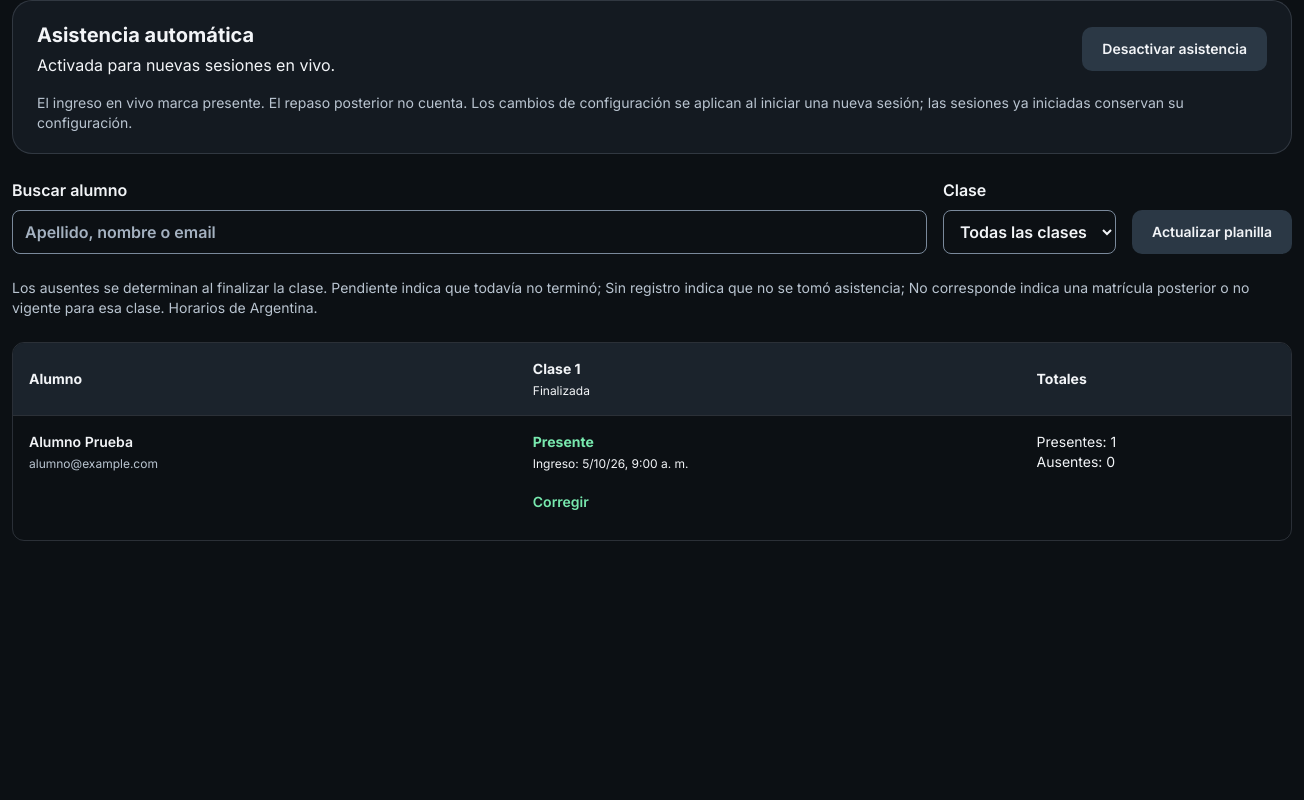
Test: muestra errores sin anunciar guardado y filtra alumnos
This screenshot has width=1304, height=800.
Click the button "Desactivar asistencia".
click(1175, 49)  # box top-left (1082, 27), bottom-right (1267, 71)
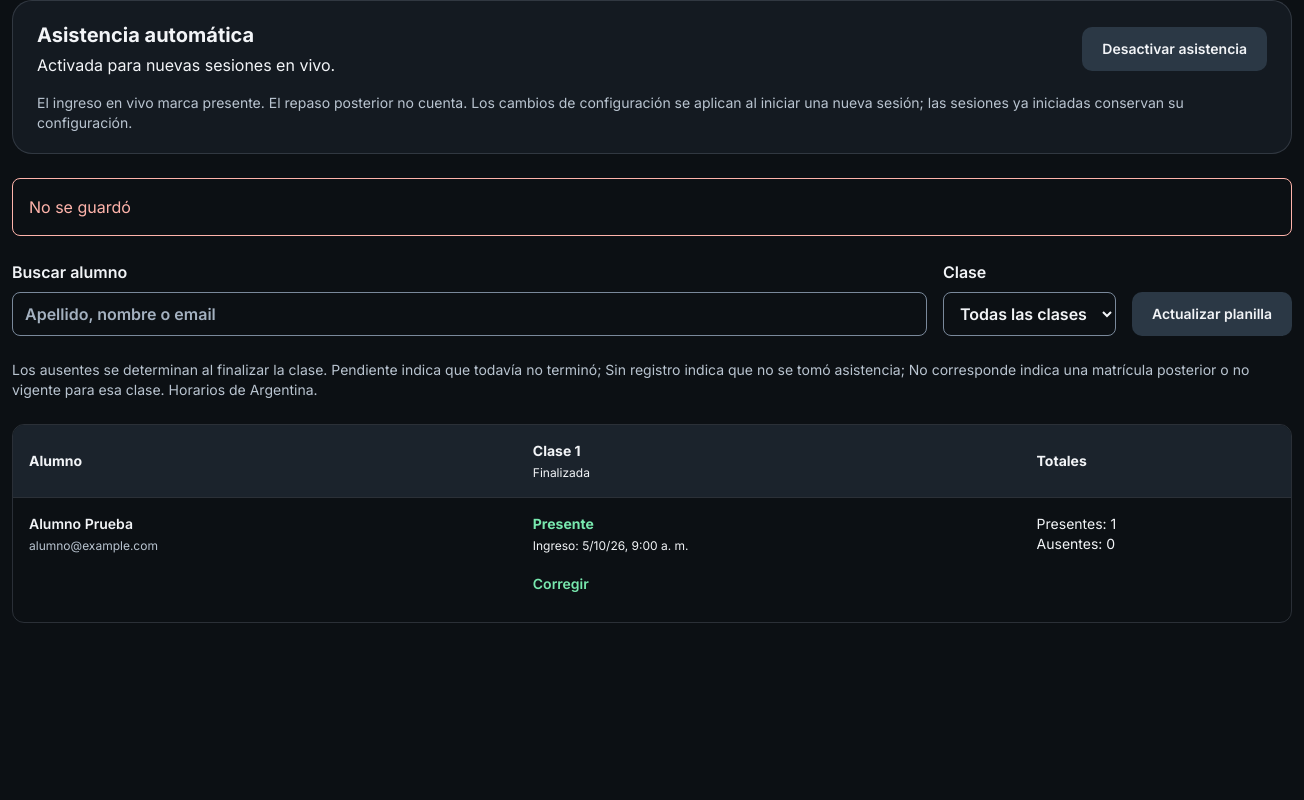
Now the message reads "No se guardó", box top-left (29, 197), bottom-right (131, 217)
Type "inexistente" into the field labelled "Buscar alumno".
click(469, 314); type("inexistente")  # box top-left (12, 292), bottom-right (927, 336)
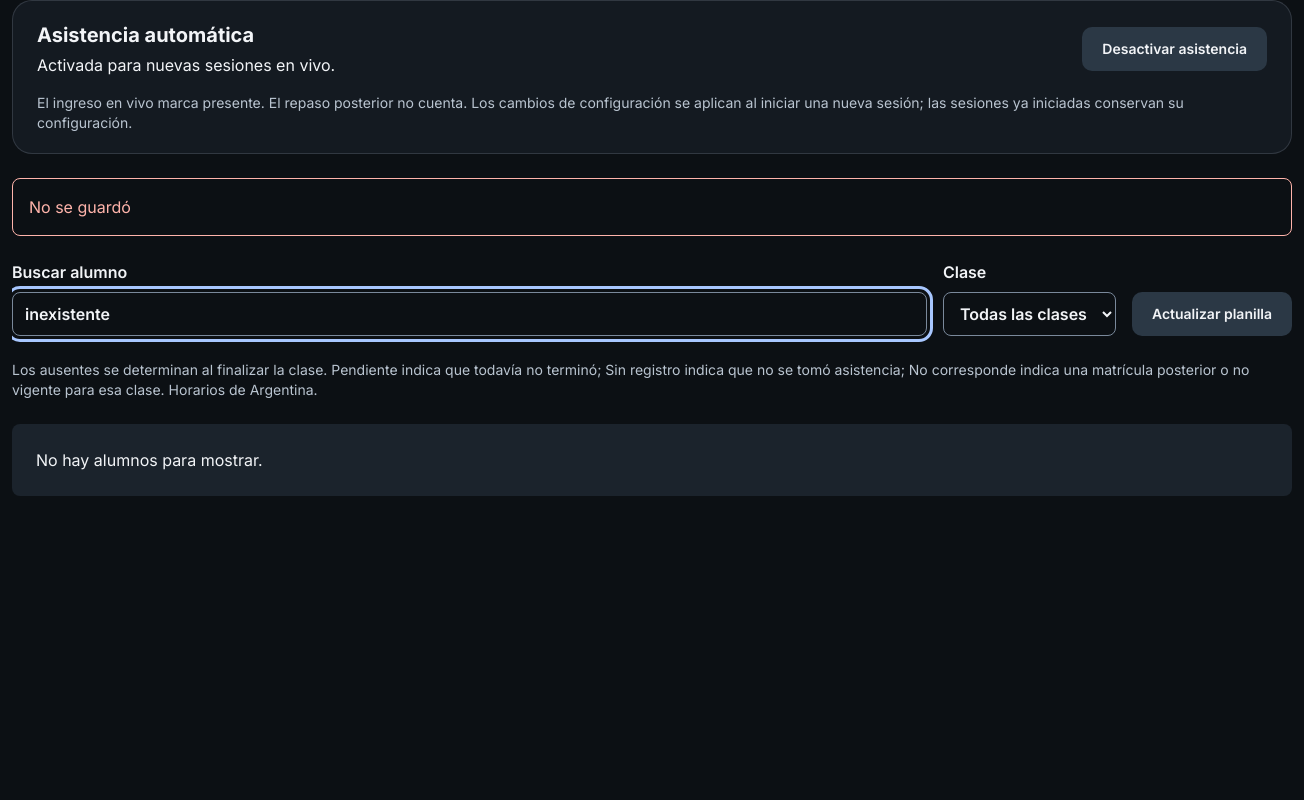
Now the text "No hay alumnos para mostrar." is shown, box top-left (12, 424), bottom-right (1292, 496)
